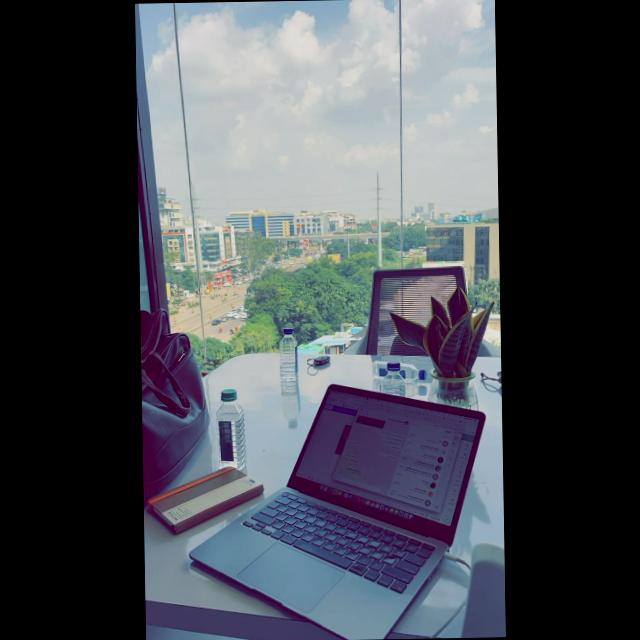laptop: (190, 384, 485, 639)
